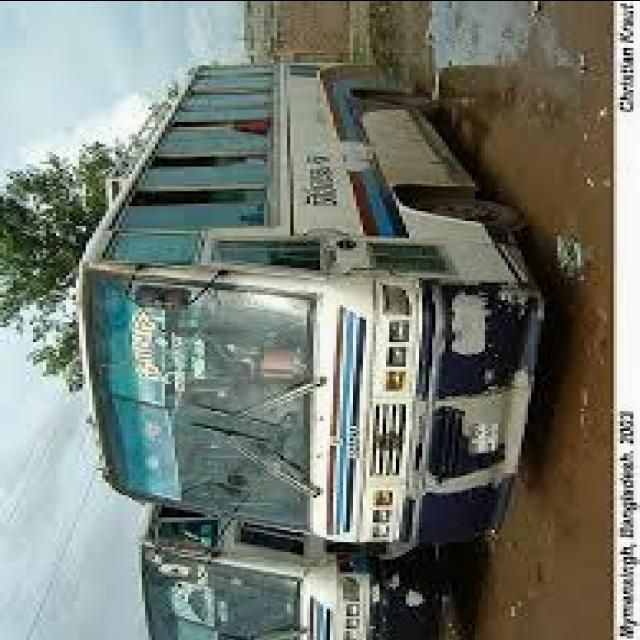bus: (38, 47, 576, 542), (128, 535, 492, 640)
